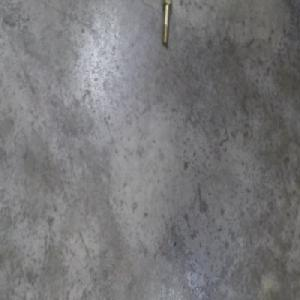Bolt: (159, 3, 173, 50)
